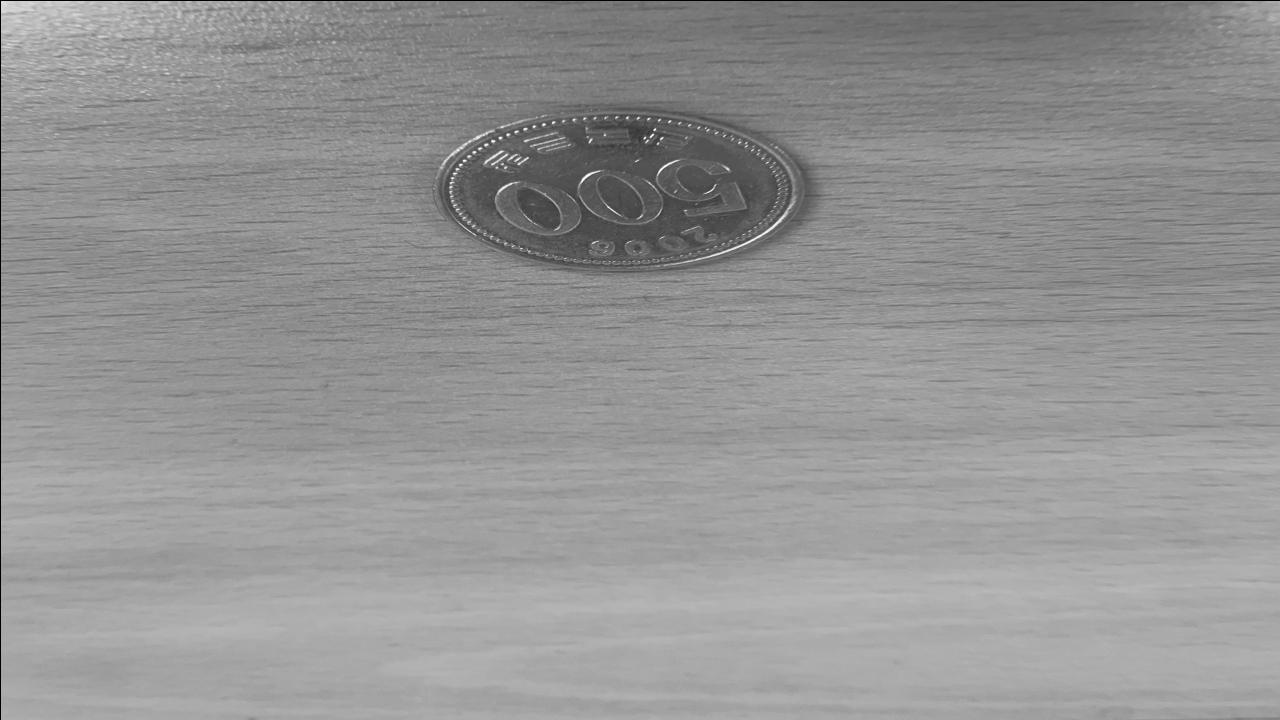coin: (432, 109, 806, 272)
